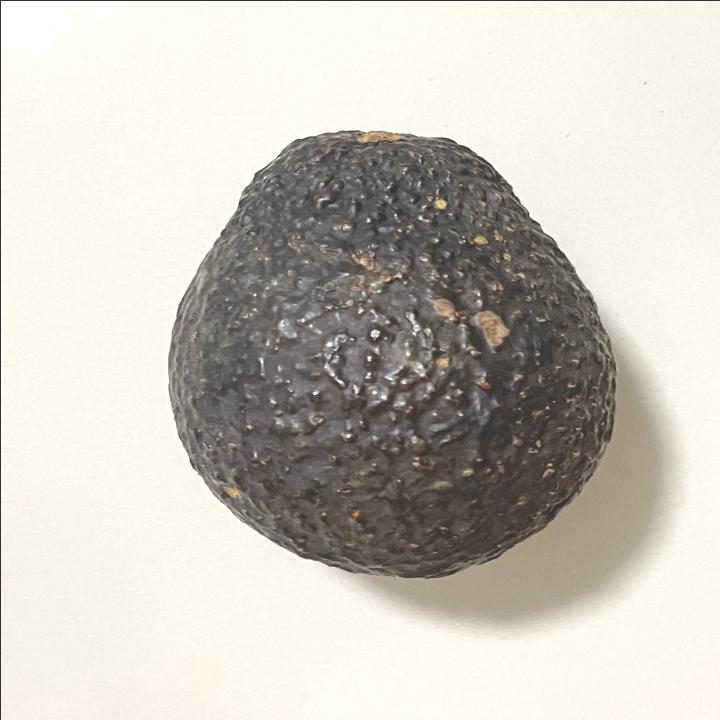Level3: (154, 118, 627, 587)
